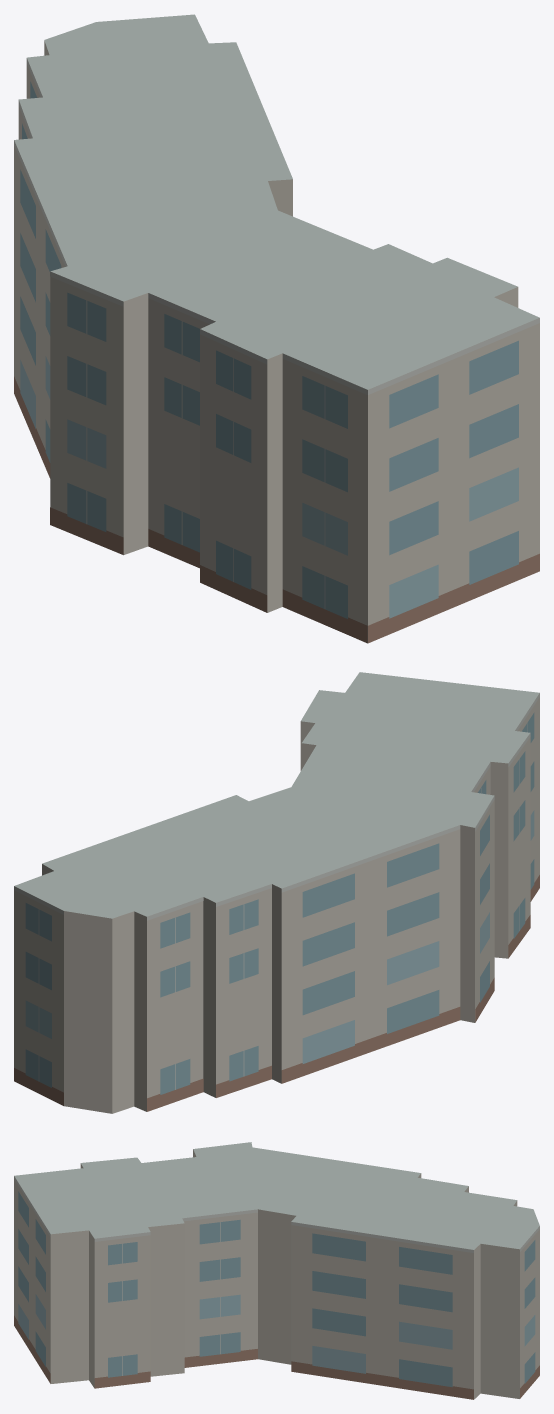
Rendered from survey-upis-32493748.glb.
The picture shows the model from 3 angles, top to bottom: view 1: azimuth 30°, elevation 25°; view 2: azimuth 150°, elevation 25°; view 3: azimuth 270°, elevation 25°; orthographic projection. The views are drawn at different scales.
Visible parts, largest first — view 1: survey-upis-32493748.tmp; view 2: survey-upis-32493748.tmp; view 3: survey-upis-32493748.tmp.
Boxes of the visible parts, box(x1,y1,x2,y2) form: survey-upis-32493748.tmp: box(14, 14, 539, 643); survey-upis-32493748.tmp: box(14, 672, 539, 1113); survey-upis-32493748.tmp: box(14, 1142, 539, 1399).
Bounding box in the file's own units: 17.93 × 11.6 × 36.9.
